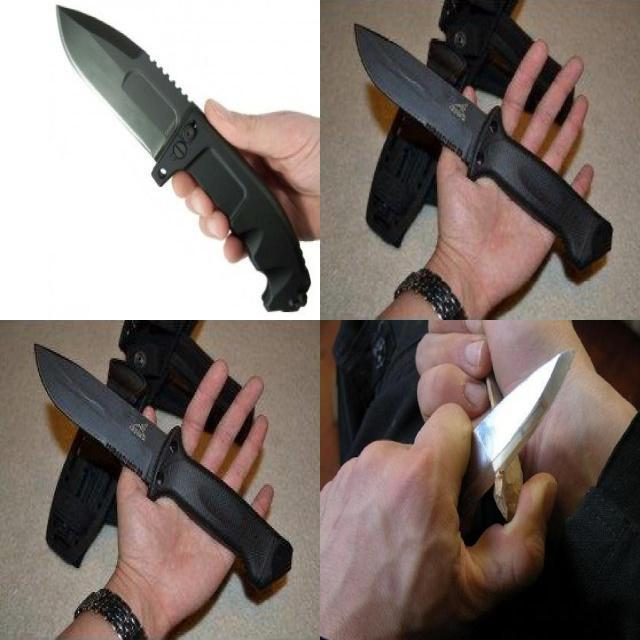-: (50, 0, 229, 209), (431, 340, 580, 542), (348, 14, 504, 184), (28, 334, 184, 503)
